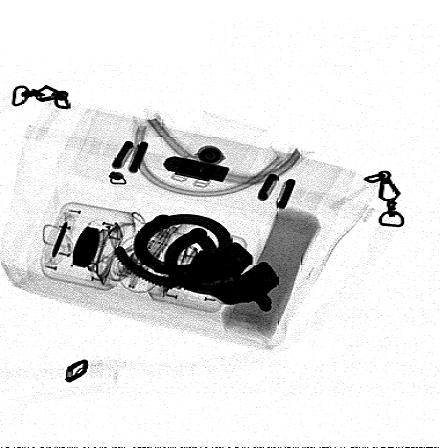HandCuffs: (113, 214, 280, 312)
